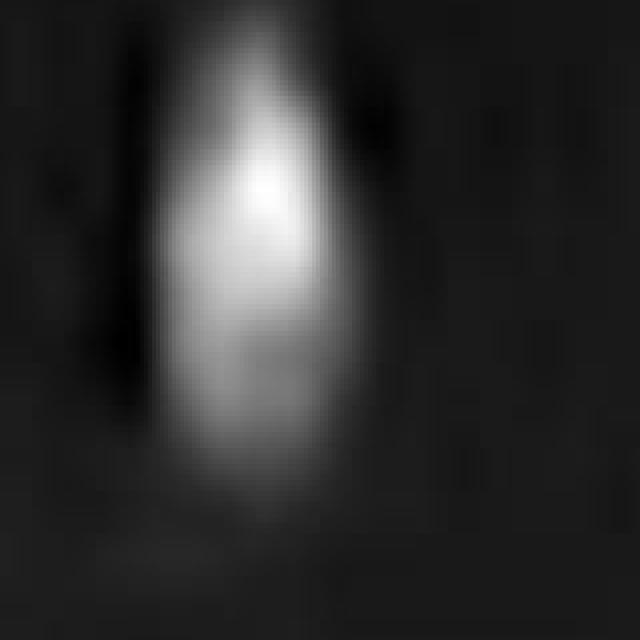person: (137, 7, 350, 472)
